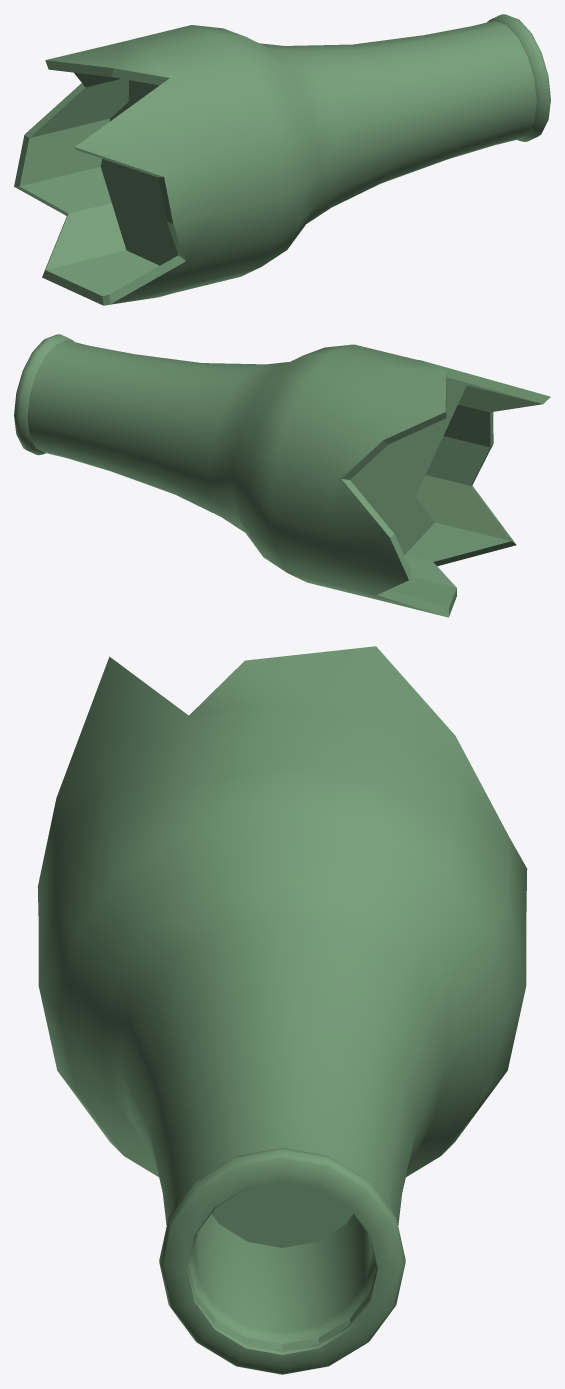
File: Broken Green Bottle.fbx
3 views of the same model, one above another, from view 1: azimuth 30°, elevation 25°; view 2: azimuth 150°, elevation 25°; view 3: azimuth 270°, elevation 25° (orthographic). The views are drawn at different scales.
Parts seen in each view (by area): view 1: pCylinder15; view 2: pCylinder15; view 3: pCylinder15.
Boxes of the visible parts, bbox=[...] form: pCylinder15: bbox=[14, 14, 550, 305]; pCylinder15: bbox=[14, 334, 550, 617]; pCylinder15: bbox=[37, 646, 527, 1374].
Bounding box in the file's own units: 1.04 × 0.471 × 0.471.
